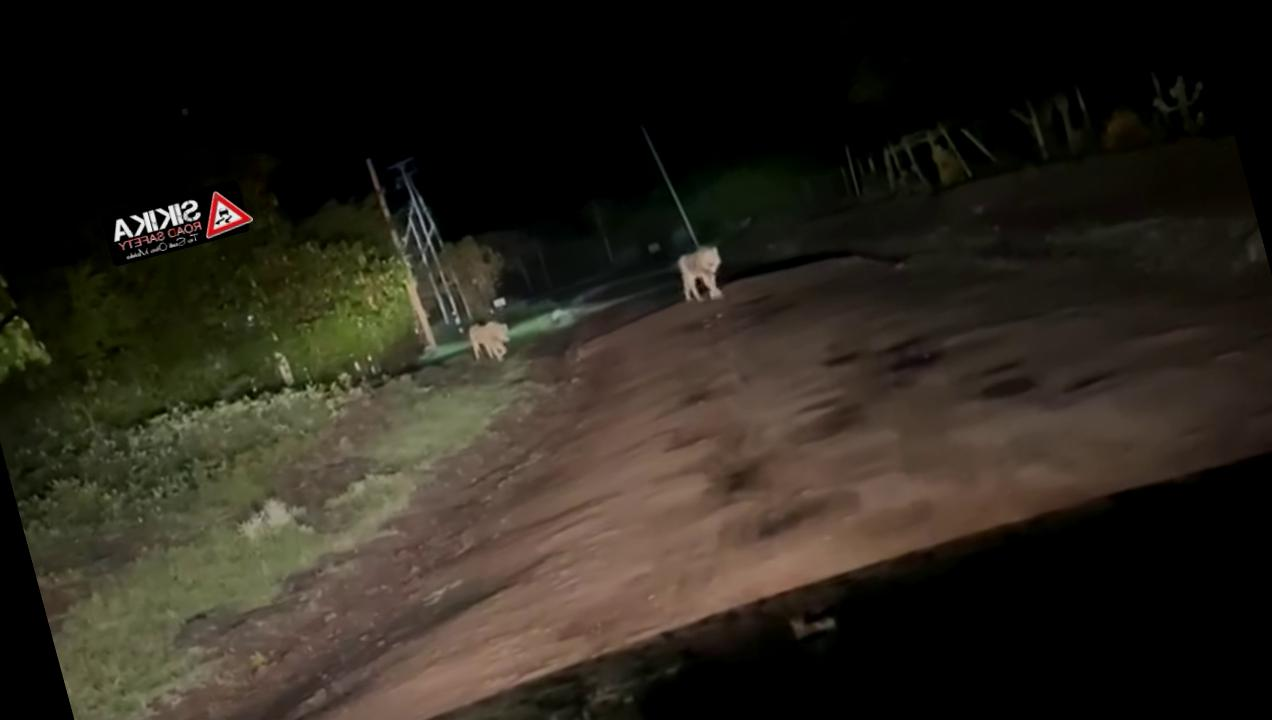lions: (649, 226, 741, 337), (444, 298, 532, 395)
